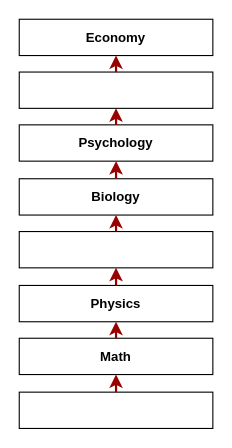
Some shapes in this 232 by 448 pixel diagram are drawn without their labels. The centre of each missing label's shape, as x and y in pixels:
Chemistry: (x=115, y=249)
Logic: (x=115, y=409)
Sociology: (x=115, y=89)
